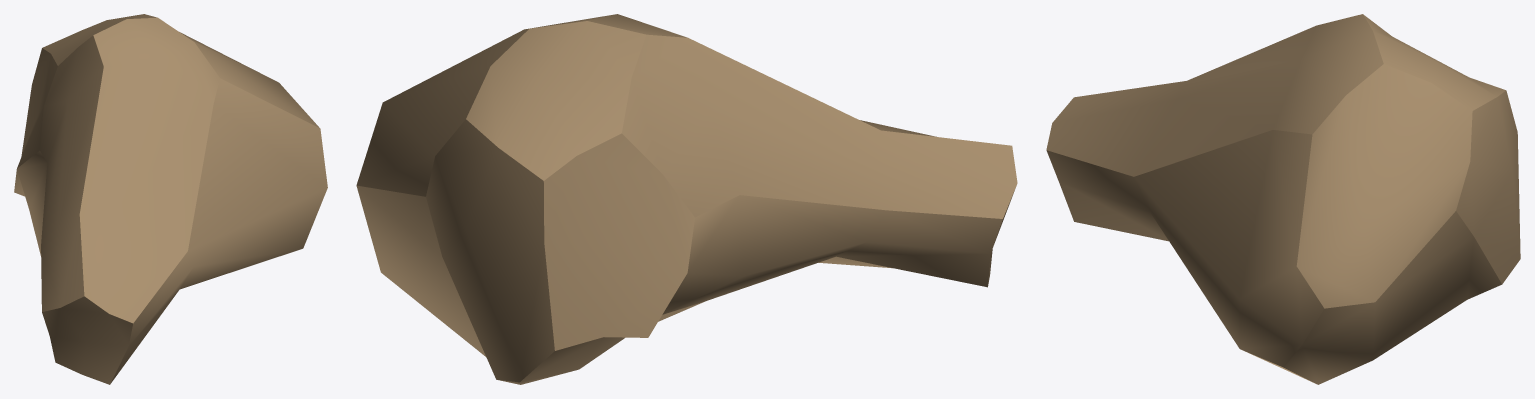
File: Rock 1.fbx
3 views of the same model, side by side, from view 1: azimuth 30°, elevation 25°; view 2: azimuth 150°, elevation 25°; view 3: azimuth 270°, elevation 25° (orthographic). The views are drawn at different scales.
Parts seen in each view (by area): view 1: pPlatonic3; view 2: pPlatonic3; view 3: pPlatonic3.
Part boxes in pixels (x1,y1,x2,y2): pPlatonic3: (14, 14, 327, 384); pPlatonic3: (356, 14, 1017, 384); pPlatonic3: (1046, 14, 1520, 384).
Bounding box in the file's own units: 3.37 × 2.22 × 3.34.
